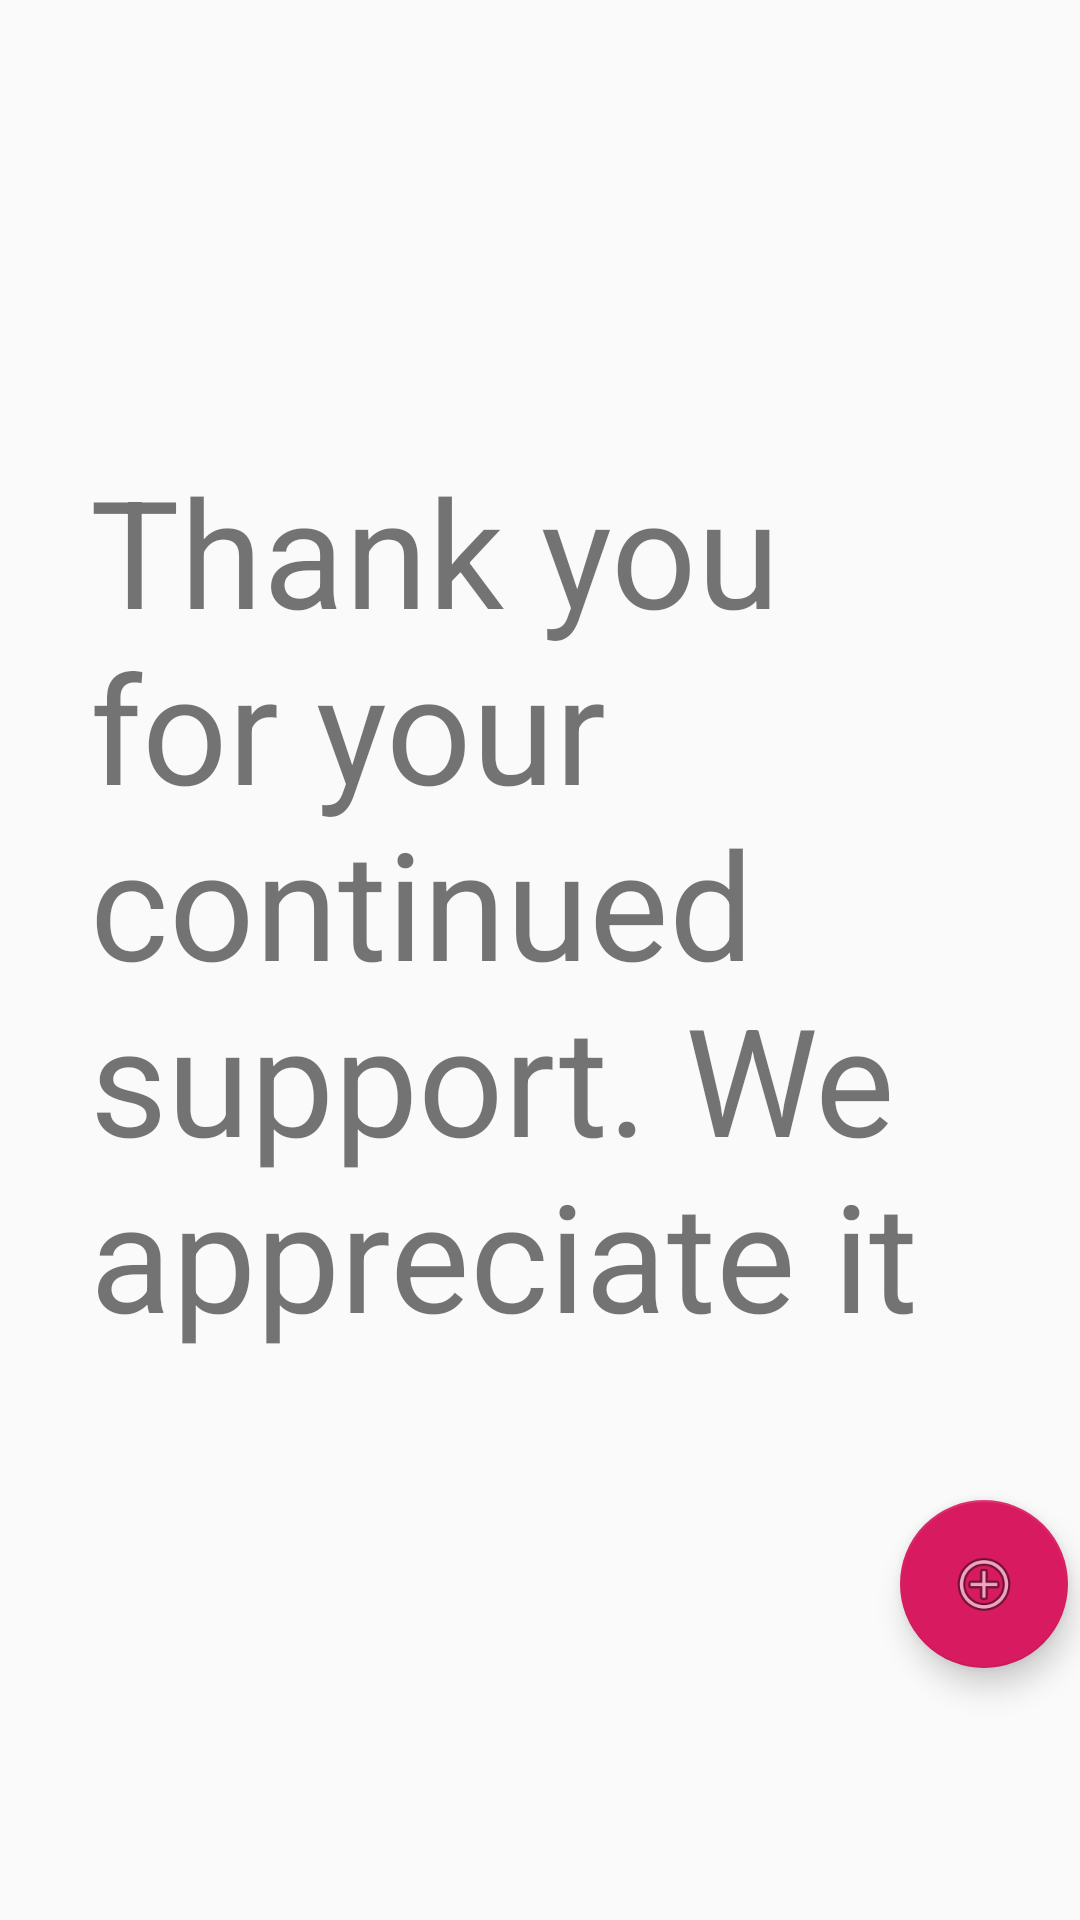

Icons on this 1080 x 1920 Android screen, each with the point to tap as [x,y]:
add: [984,1584]
